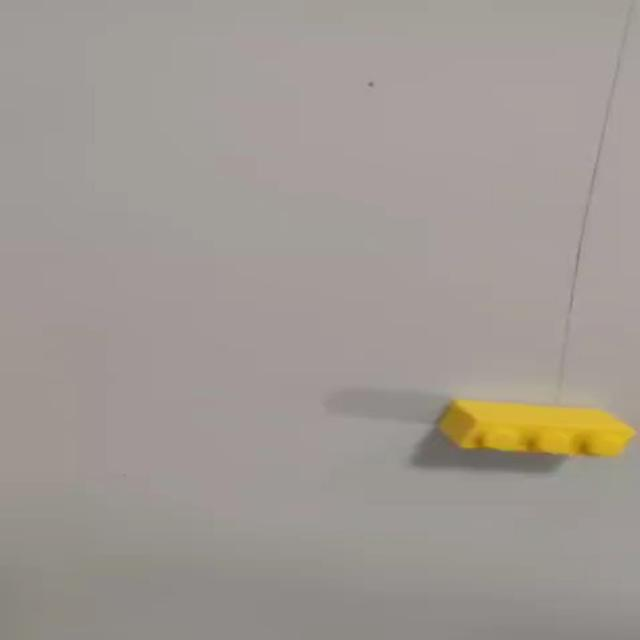C3x1x1: (426, 394, 640, 469)
